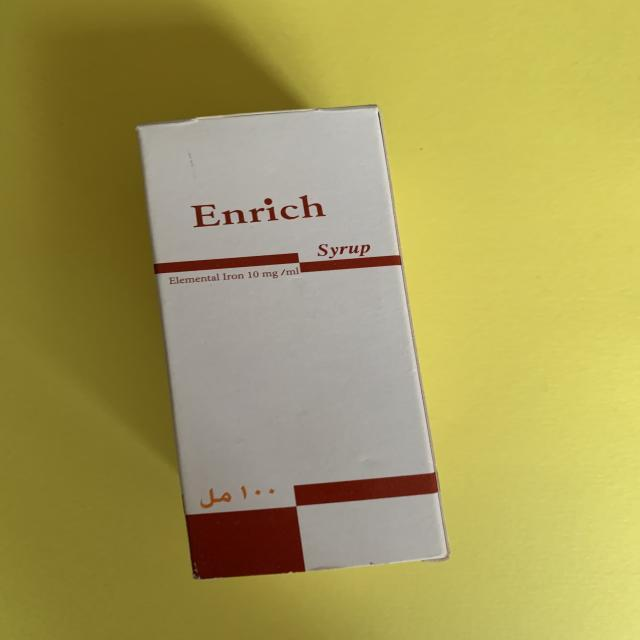Medicine Name: (175, 191, 345, 231)
